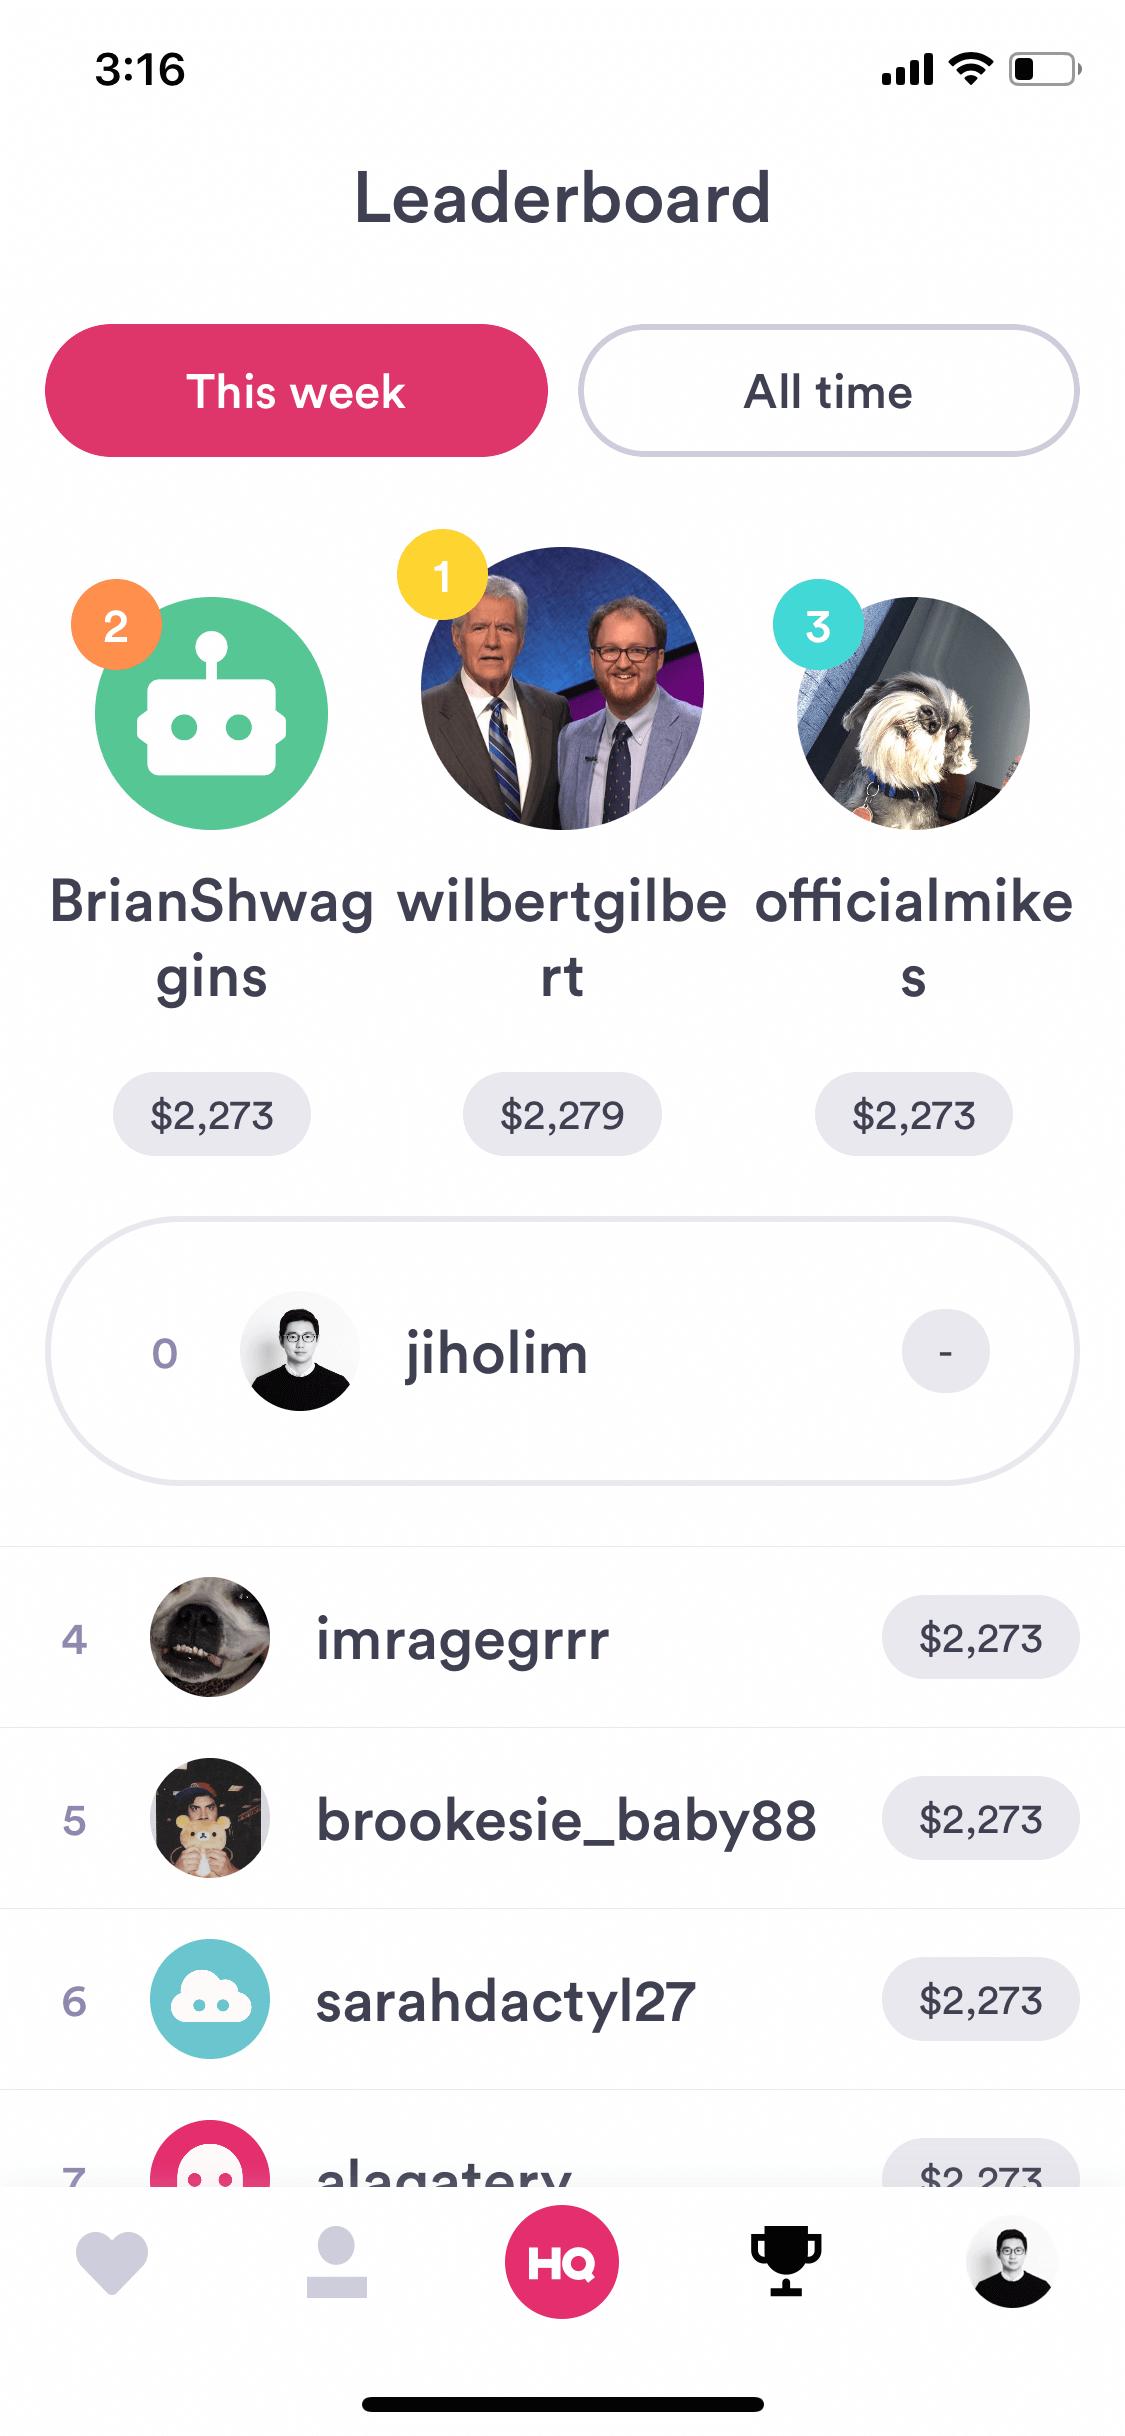Buttons: (44, 315, 550, 477), (578, 322, 1085, 478)
